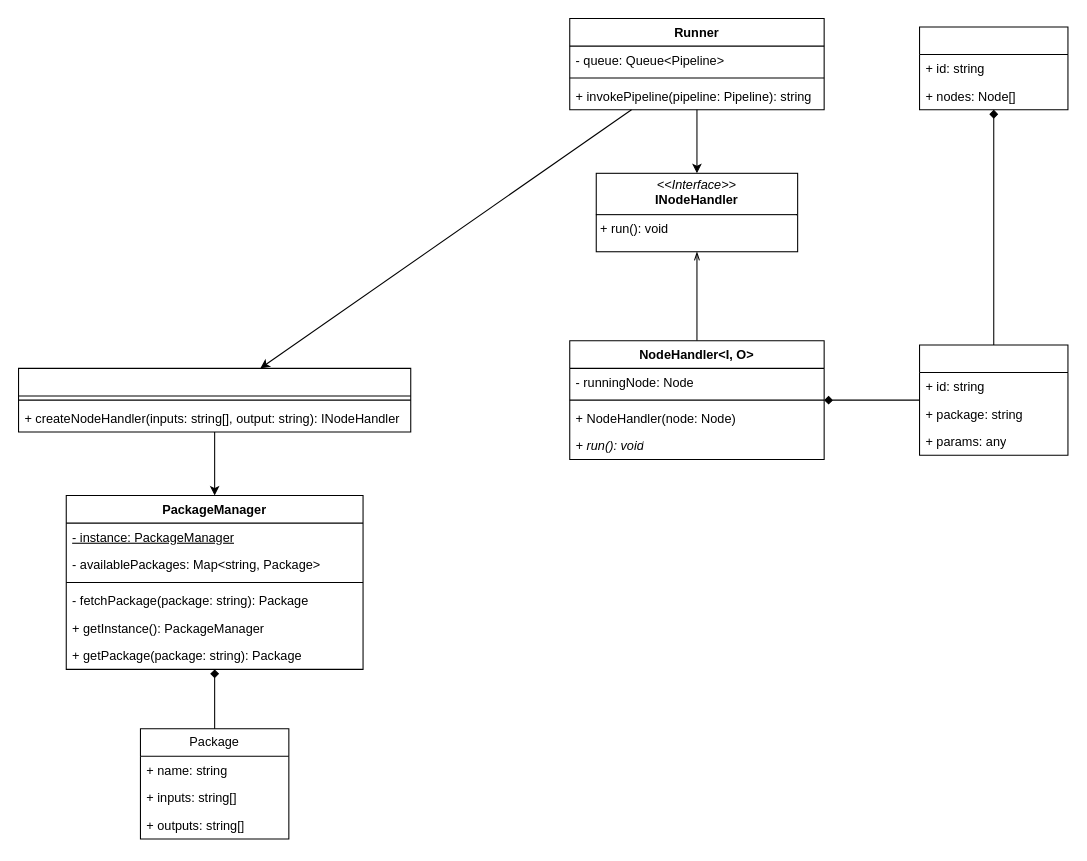
This 1087x861 diagram has some shape labels left out. The box of each missing label's shape, as (x1, y1, x2, y2) in pixels:
Node: (918, 344, 1068, 455)
NodeHandlerFactory: (17, 367, 411, 432)
Pipeline: (918, 26, 1068, 110)
